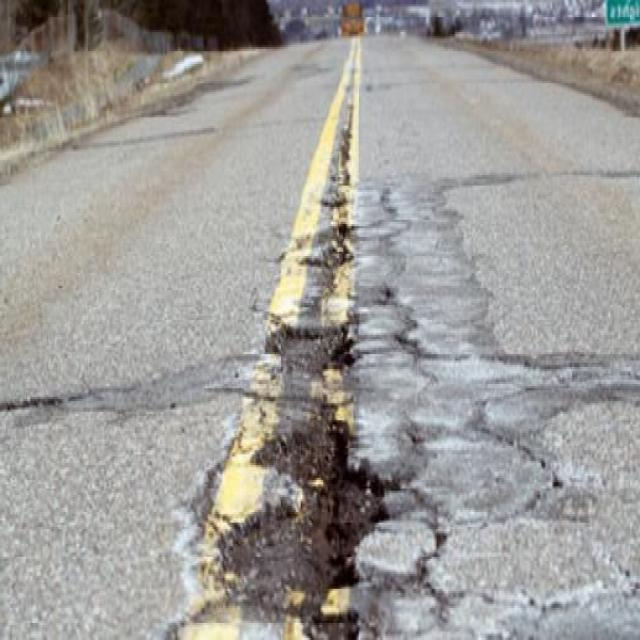pothole: (225, 416, 392, 638), (262, 318, 359, 373)
